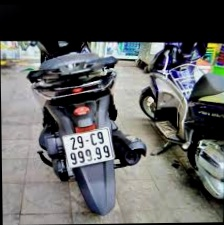Bien-so: (54, 123, 107, 169)
